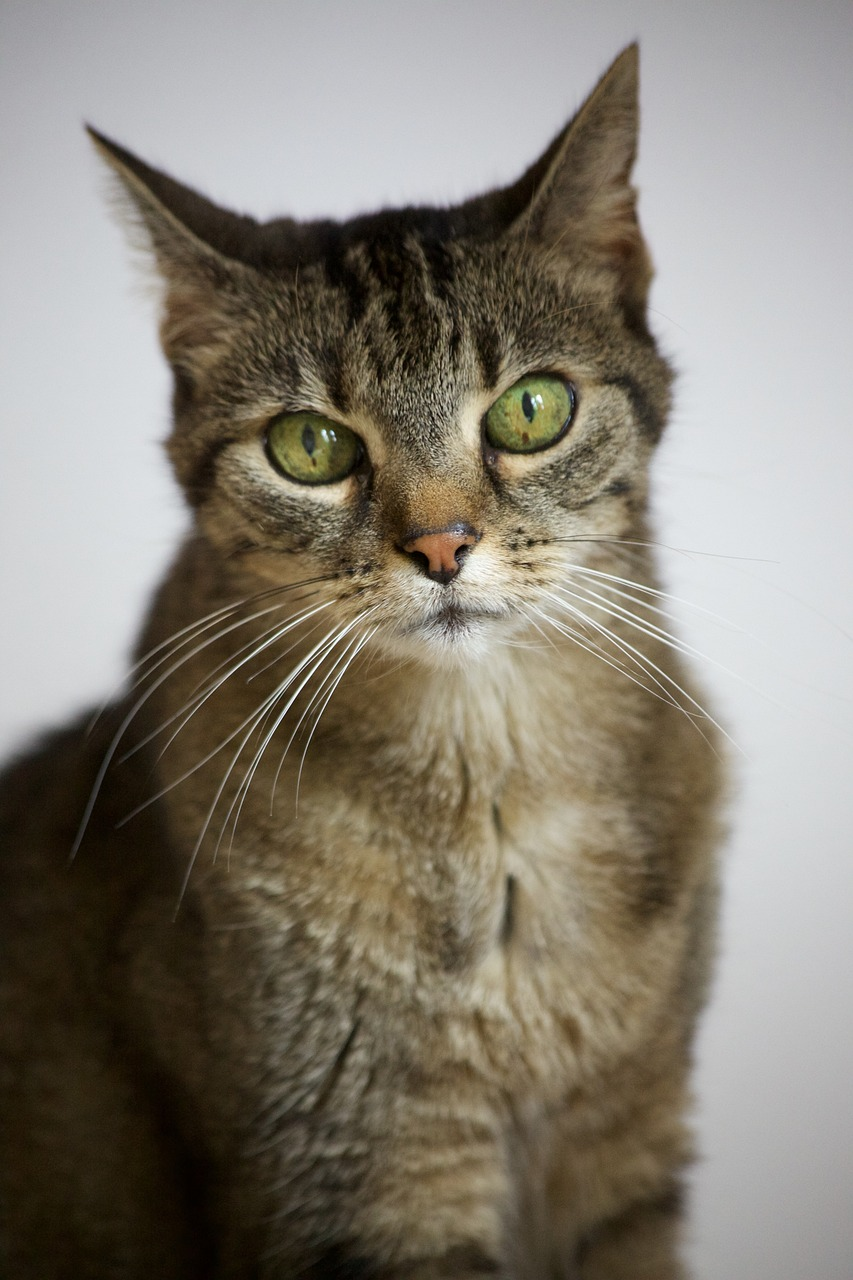tiger: (390, 515, 507, 583)
